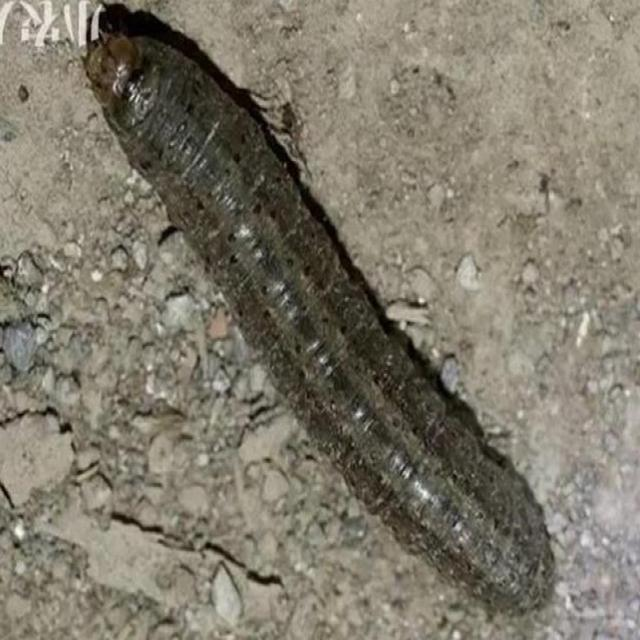black cutworm: (67, 13, 557, 625)
